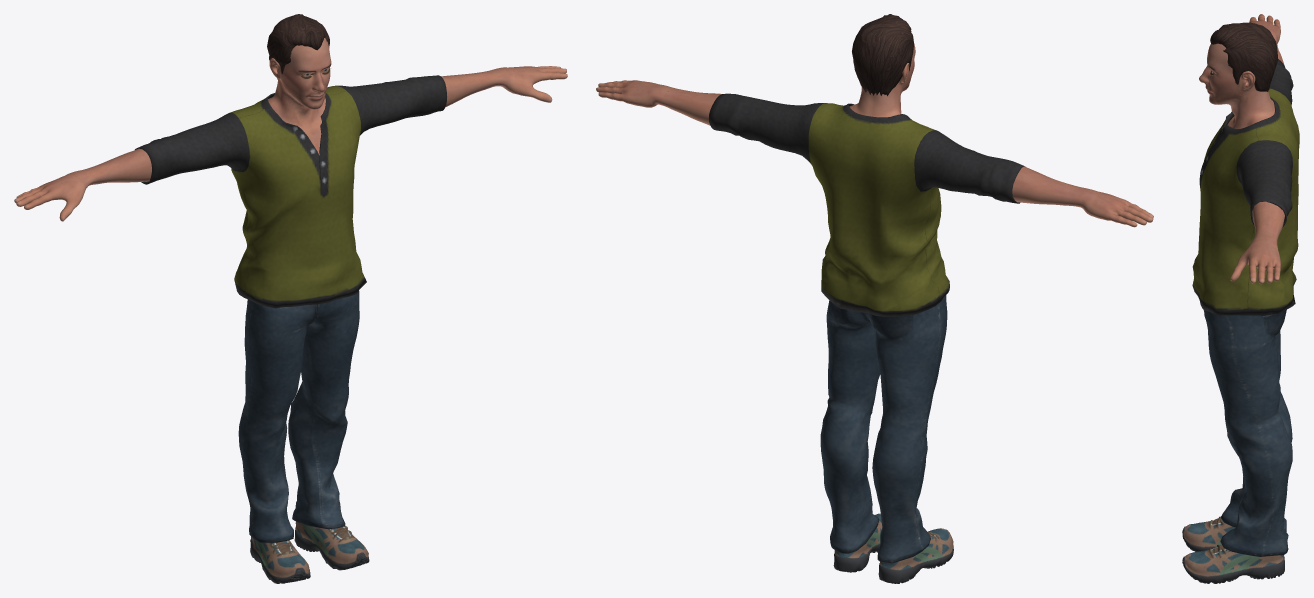
File: testModel.obj
3 renders of one model, left to right at view 1: azimuth 30°, elevation 25°; view 2: azimuth 150°, elevation 25°; view 3: azimuth 270°, elevation 25°, orthographic.
Parts seen in each view (by area): view 1: Tops, Bottoms, Body, Shoes, Hair; view 2: Tops, Bottoms, Body, Hair, Shoes; view 3: Tops, Bottoms, Body, Shoes, Hair.
Part boxes in pixels (x1,y1,x2,y2): Tops: [135, 75, 446, 308]; Bottoms: [238, 291, 359, 542]; Body: [14, 38, 567, 221]; Shoes: [250, 522, 369, 583]; Hair: [267, 14, 329, 78]; Tops: [708, 93, 1025, 316]; Bottoms: [820, 295, 947, 563]; Body: [596, 43, 1153, 227]; Hair: [852, 14, 914, 96]; Shoes: [833, 513, 953, 583]; Tops: [1192, 59, 1299, 315]; Bottoms: [1203, 309, 1292, 556]; Body: [1199, 14, 1284, 284]; Shoes: [1182, 516, 1284, 583]; Hair: [1210, 22, 1277, 91].
Size of the model in its own units: 194 by 182 by 36.
Materials: 1 (1 with a texture image).
